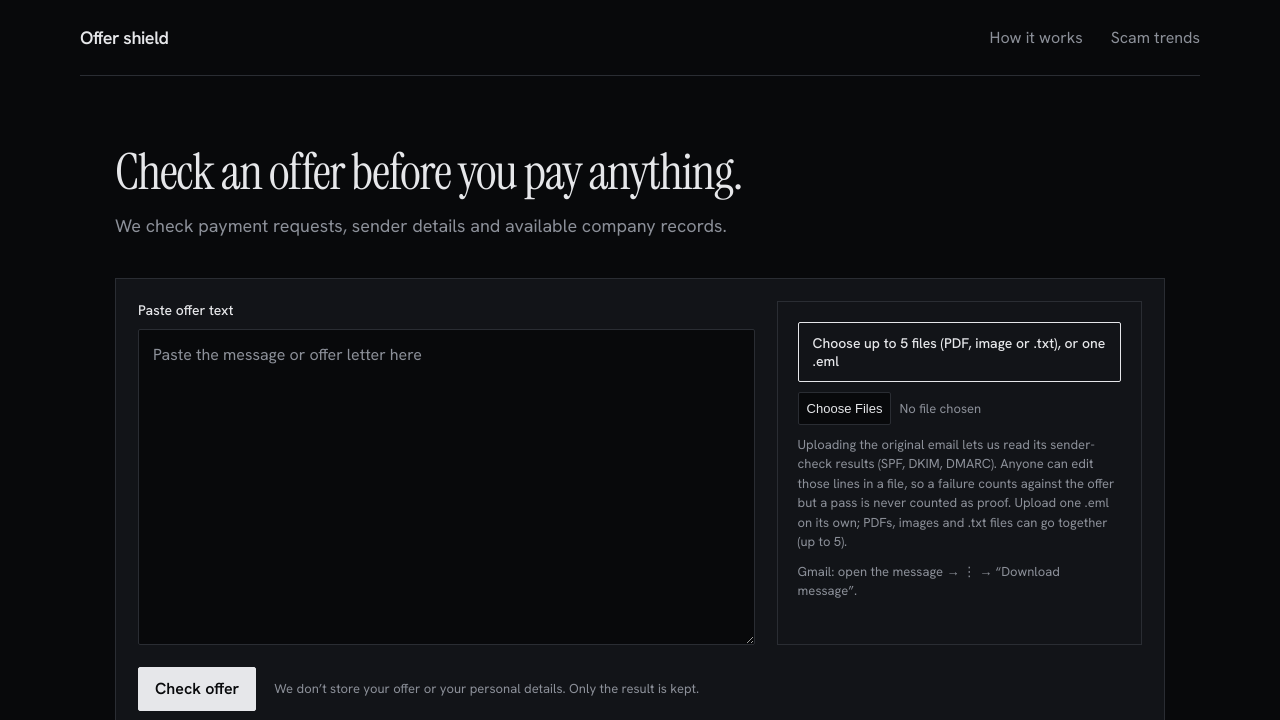
Scenario: analysis result › renders the verdict plate in sentence case (High risk)
This screenshot has width=1280, height=720.
Type "Test offer text" into the text box labelled "Paste offer text" at (446, 487), box [138, 329, 755, 645]
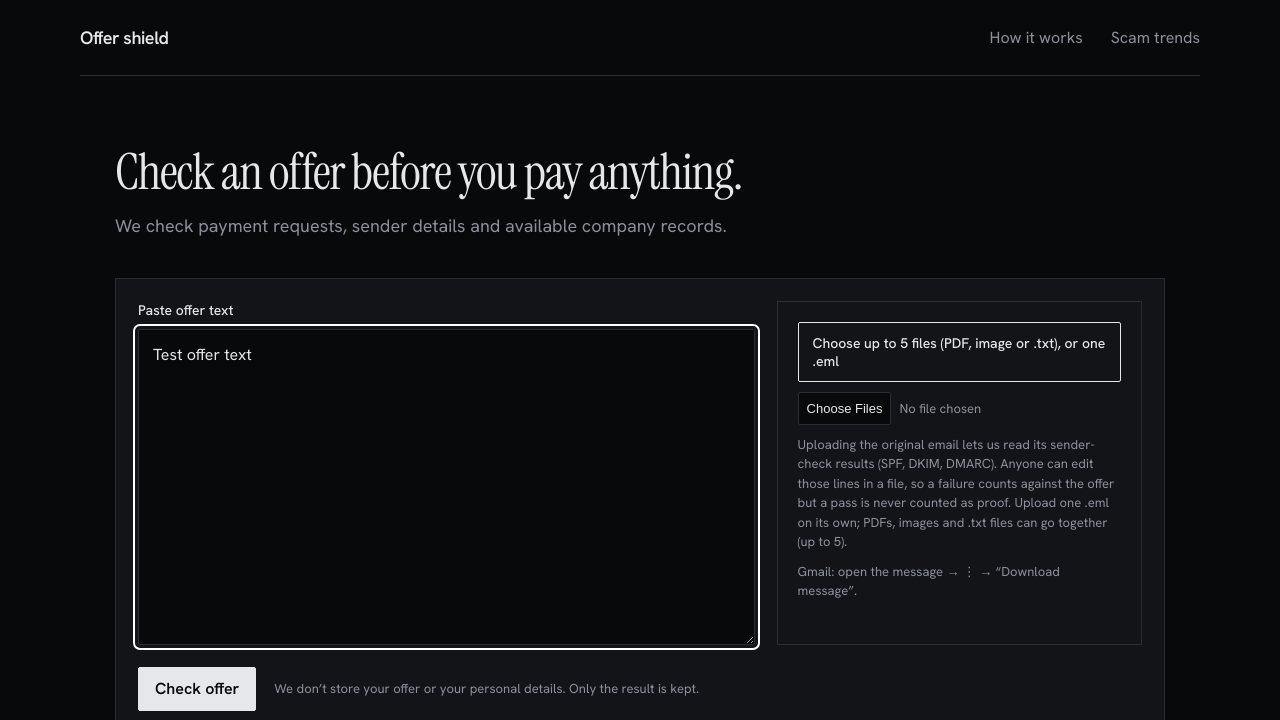
Click the button "Check offer" at (197, 689), box [138, 667, 256, 711]
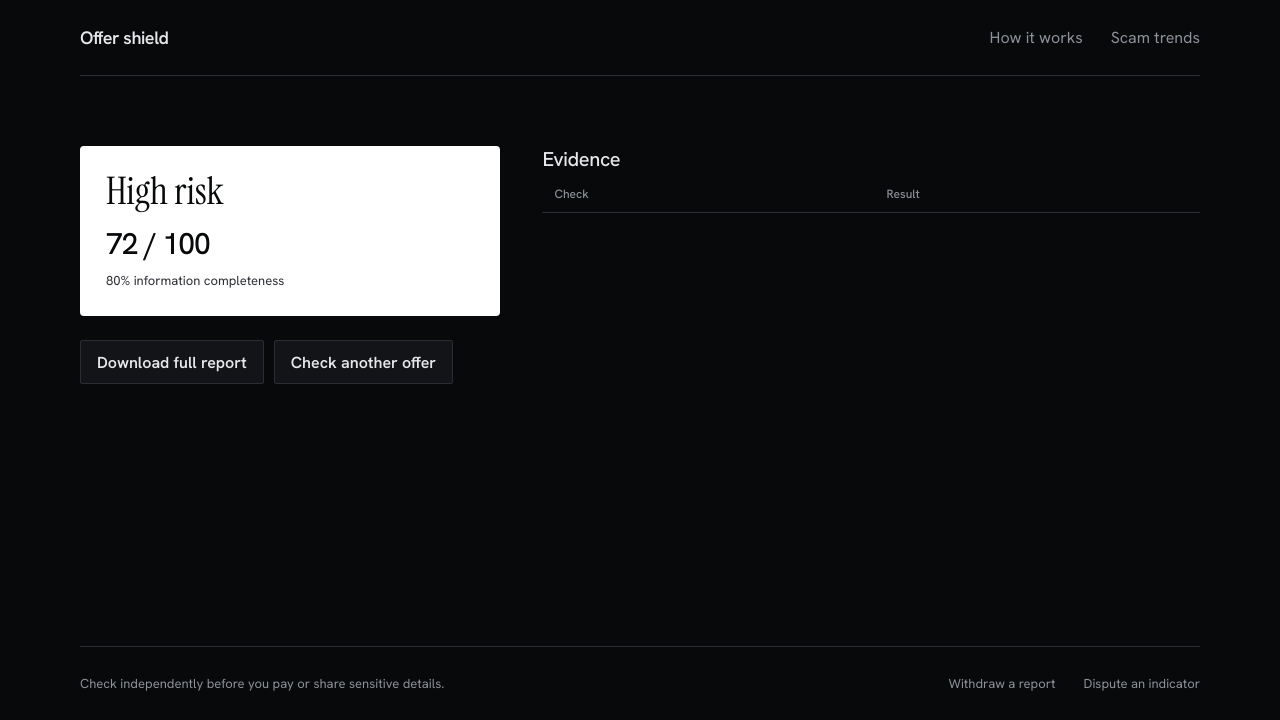
Check: the text "72" is shown, box [106, 224, 138, 263]
